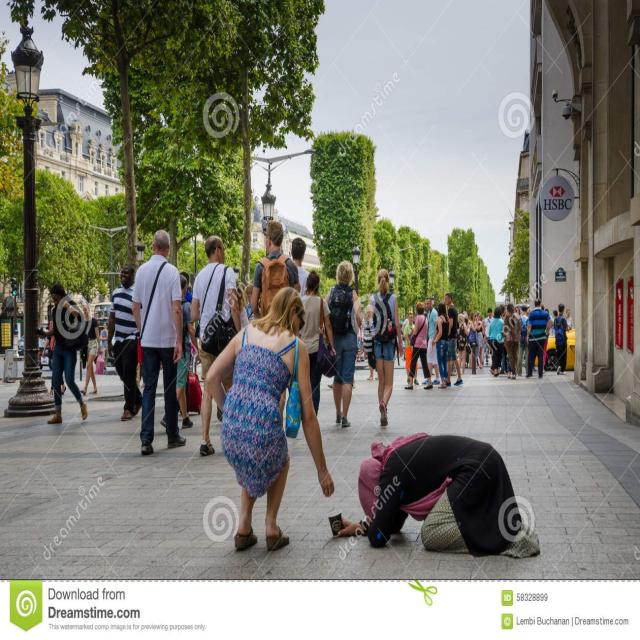body: (205, 284, 336, 552), (337, 431, 541, 560), (130, 228, 183, 458), (189, 234, 243, 456), (35, 282, 88, 426), (320, 258, 363, 429), (160, 274, 202, 430), (297, 268, 339, 420), (107, 263, 143, 421), (369, 268, 404, 428), (250, 218, 301, 324), (403, 299, 433, 390), (78, 303, 104, 397), (526, 297, 554, 379), (41, 316, 67, 398), (444, 292, 464, 387), (421, 296, 441, 386), (434, 301, 451, 389), (357, 308, 377, 380), (503, 302, 521, 380), (291, 236, 311, 298), (404, 312, 420, 386), (364, 303, 379, 381), (554, 303, 570, 374), (490, 307, 504, 377), (518, 305, 531, 378), (134, 320, 147, 391), (456, 313, 469, 375), (483, 308, 495, 367), (467, 311, 479, 369), (474, 311, 484, 369), (99, 320, 109, 373), (179, 270, 193, 305), (238, 282, 252, 312), (464, 312, 471, 368), (401, 312, 408, 360), (541, 336, 548, 373), (564, 307, 575, 330), (552, 309, 558, 330), (92, 310, 109, 317), (499, 304, 507, 316), (541, 303, 550, 311), (515, 306, 521, 316), (188, 282, 194, 291), (526, 306, 531, 316), (489, 366, 494, 375), (431, 366, 435, 376), (423, 313, 428, 316)
